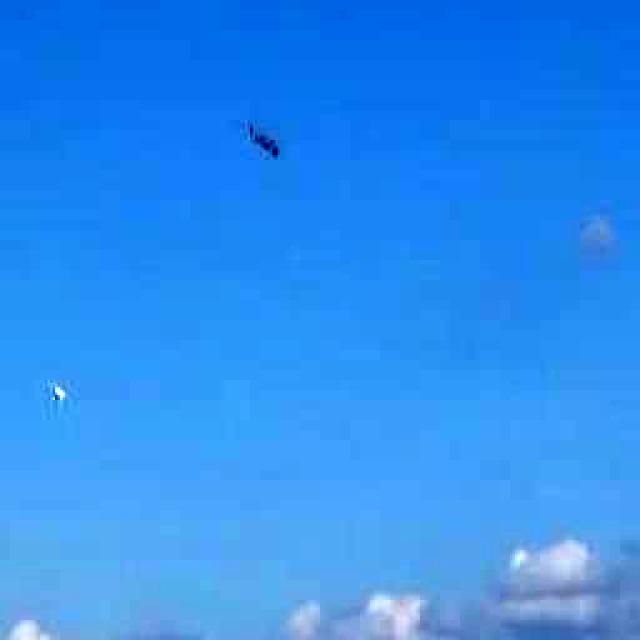bird: (225, 104, 310, 189), (30, 359, 90, 434)
